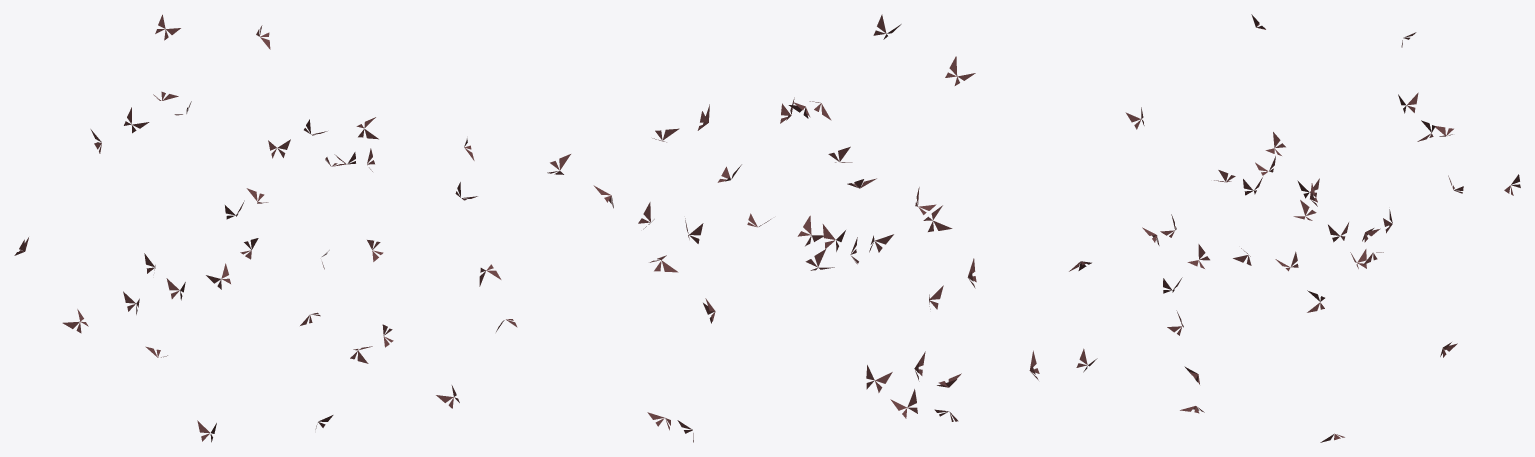
3 views of the same model, side by side, from view 1: azimuth 30°, elevation 25°; view 2: azimuth 150°, elevation 25°; view 3: azimuth 270°, elevation 25° (orthographic). The views are drawn at different scales.
Bounding box in the file's own units: 38.05 × 32.76 × 39.77.
1 material, 1 textured.
